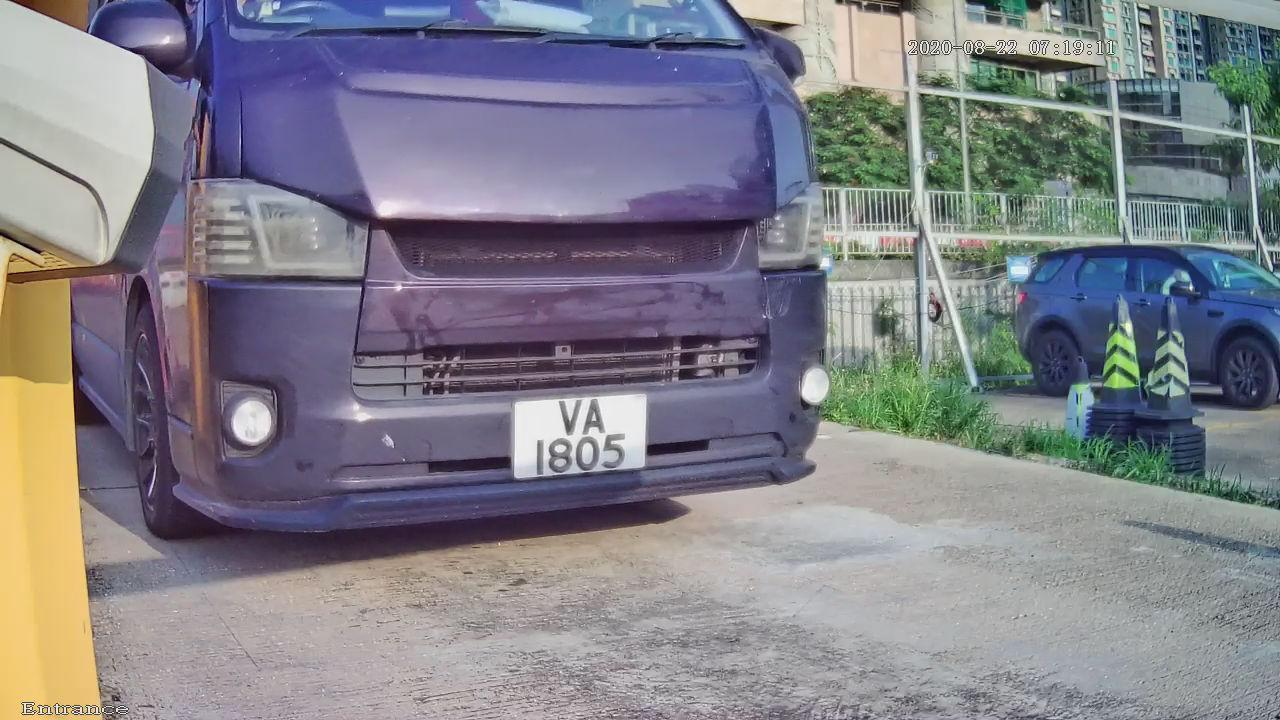License Plate: (485, 370, 665, 496)
